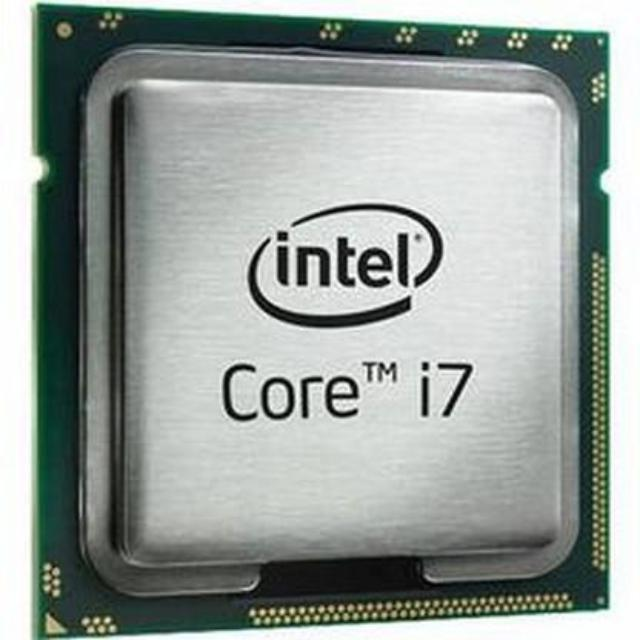CPU: (52, 2, 608, 608)
